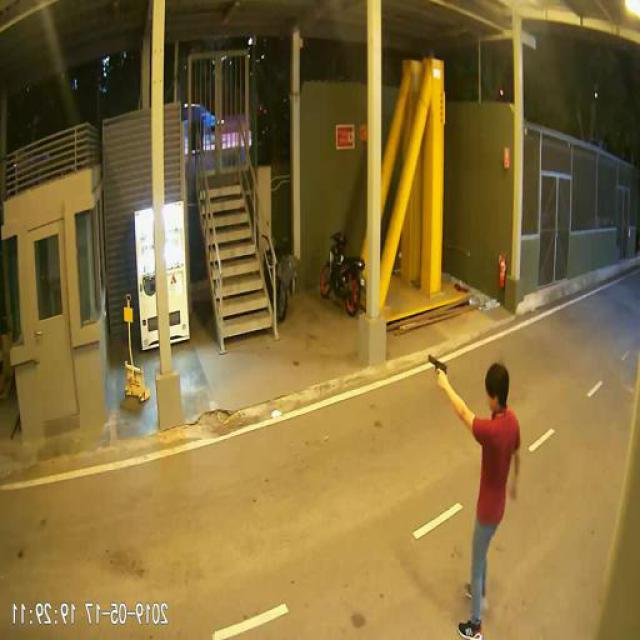Gun: (431, 352, 449, 387)
